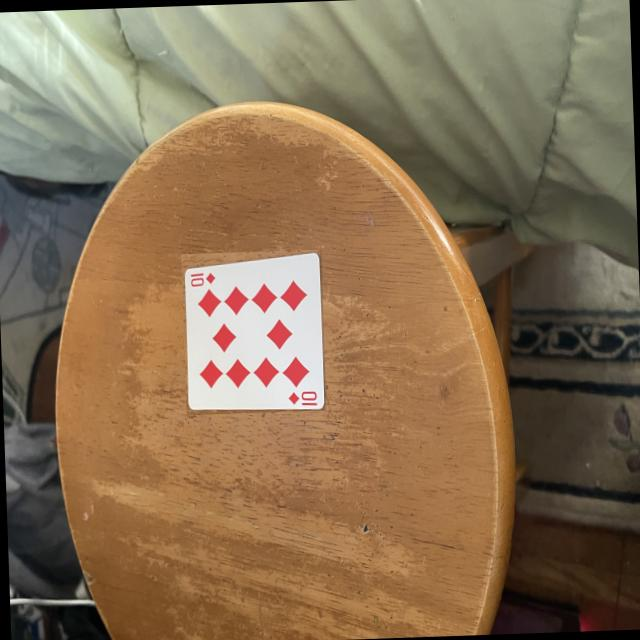10 of diamonds: (184, 248, 325, 409)
